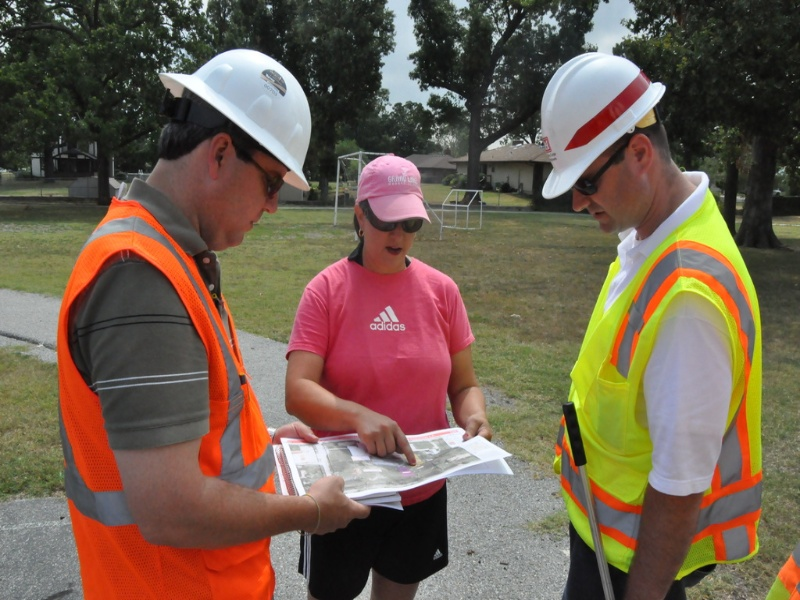Baret: (159, 44, 308, 185), (536, 51, 665, 194)
